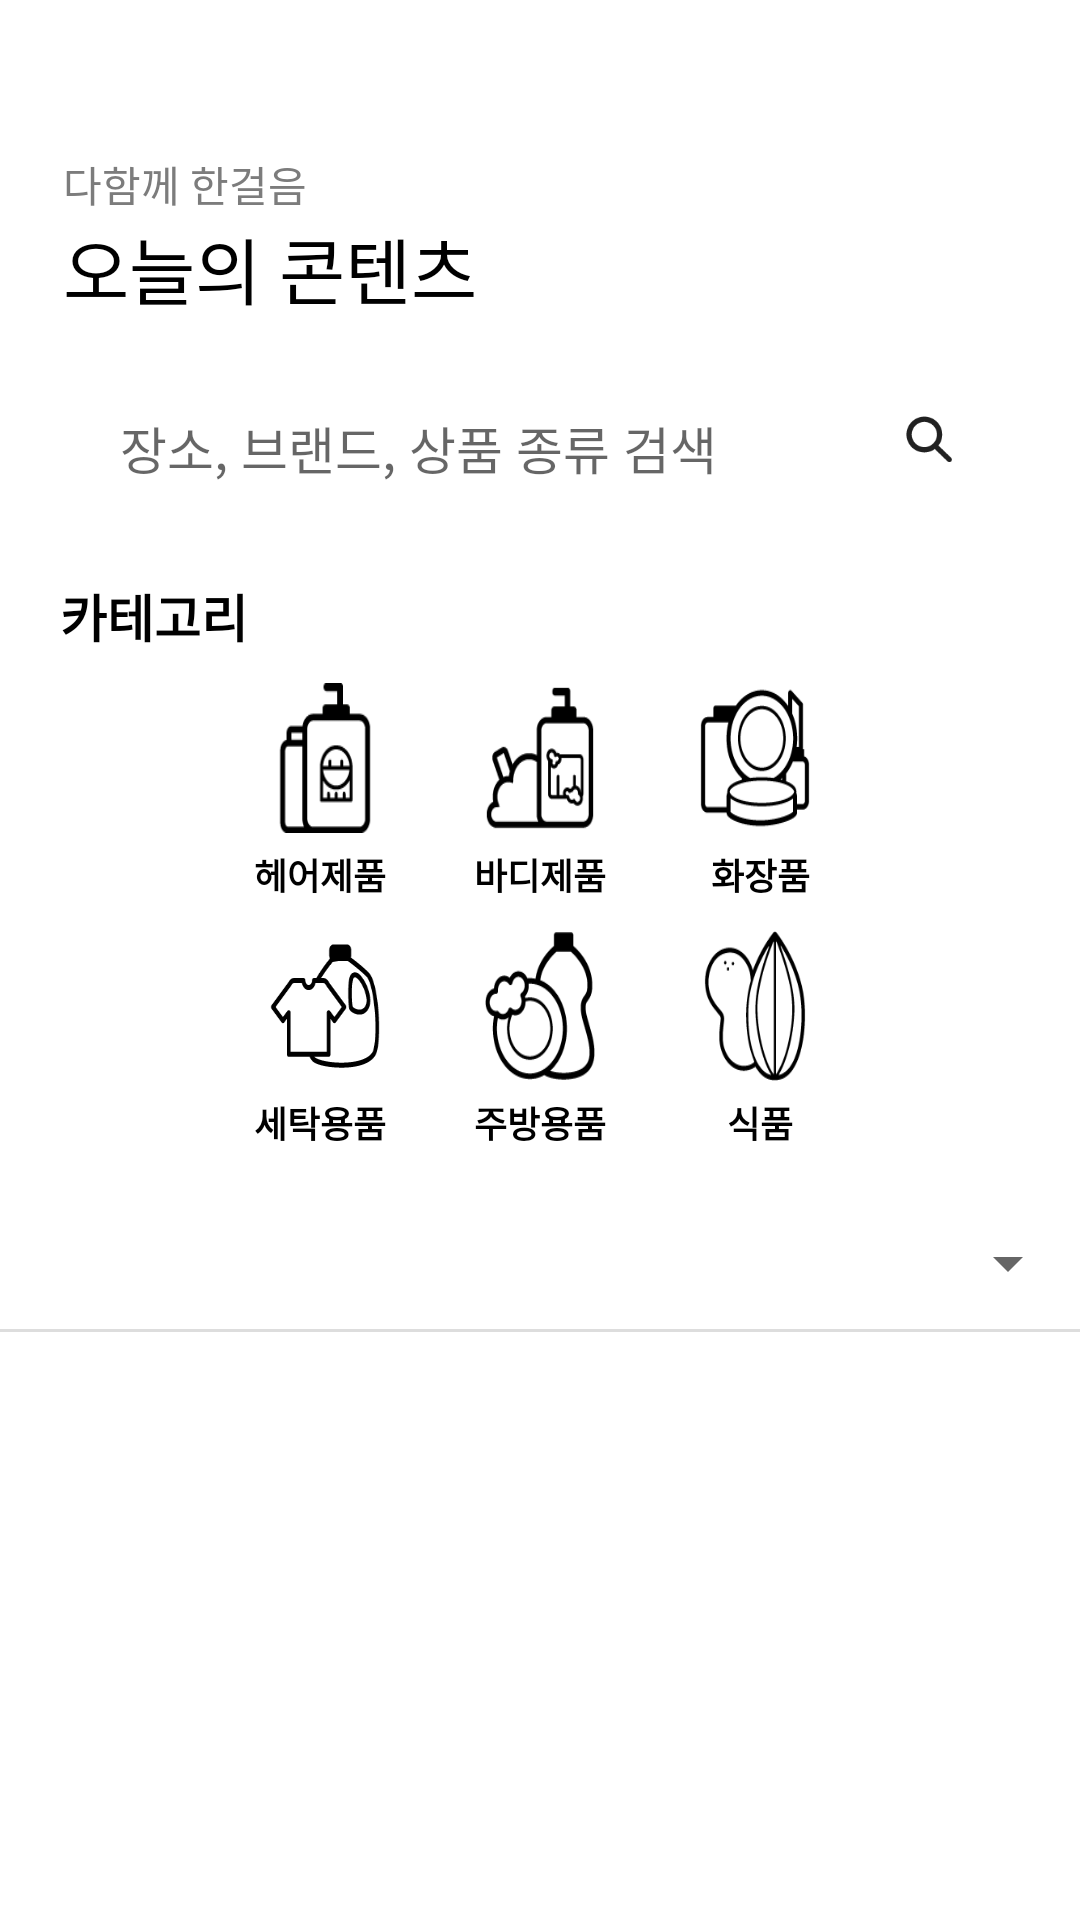

Where icons sit on this 1080w x 1920h app screen, as (x1, y1, x2, y2):
map search: (906, 416, 952, 462)
